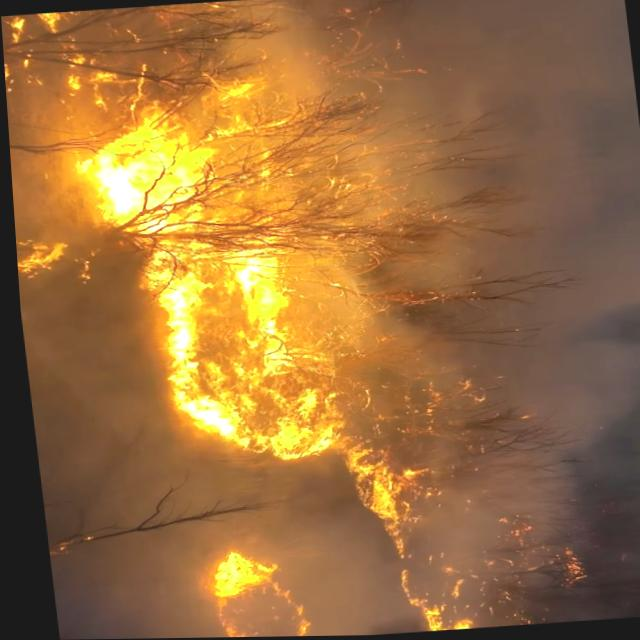fire: (102, 217, 352, 457), (58, 116, 251, 254)
smoke: (400, 0, 640, 321)
